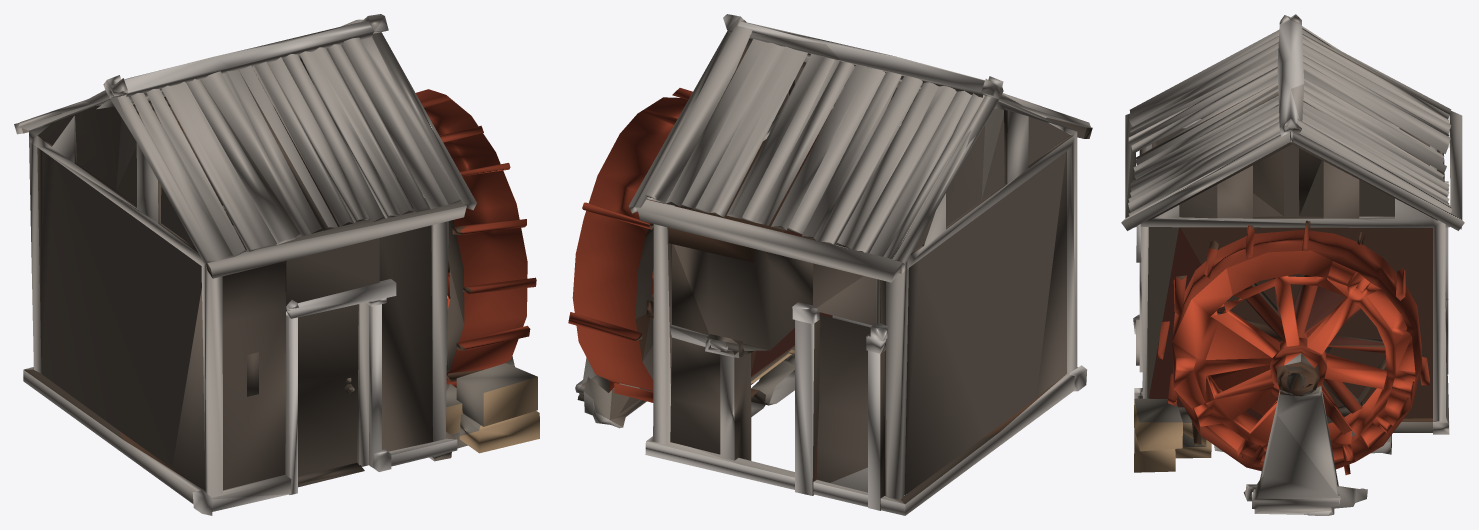
File: sluice_shed_a_lod1_tripo.glb
3 renders of one model, left to right at view 1: azimuth 30°, elevation 25°; view 2: azimuth 150°, elevation 25°; view 3: azimuth 270°, elevation 25°, orthographic. The views are drawn at different scales.
Parts seen in each view (by area): view 1: Surface.001; view 2: Surface.001; view 3: Surface.001.
Part boxes in pixels (box(x1,y1,x2,y2)): Surface.001: box(14, 14, 539, 515); Surface.001: box(568, 14, 1092, 515); Surface.001: box(1121, 14, 1464, 515).
Size of the model in its own units: 5.94 by 5.65 by 5.2.
